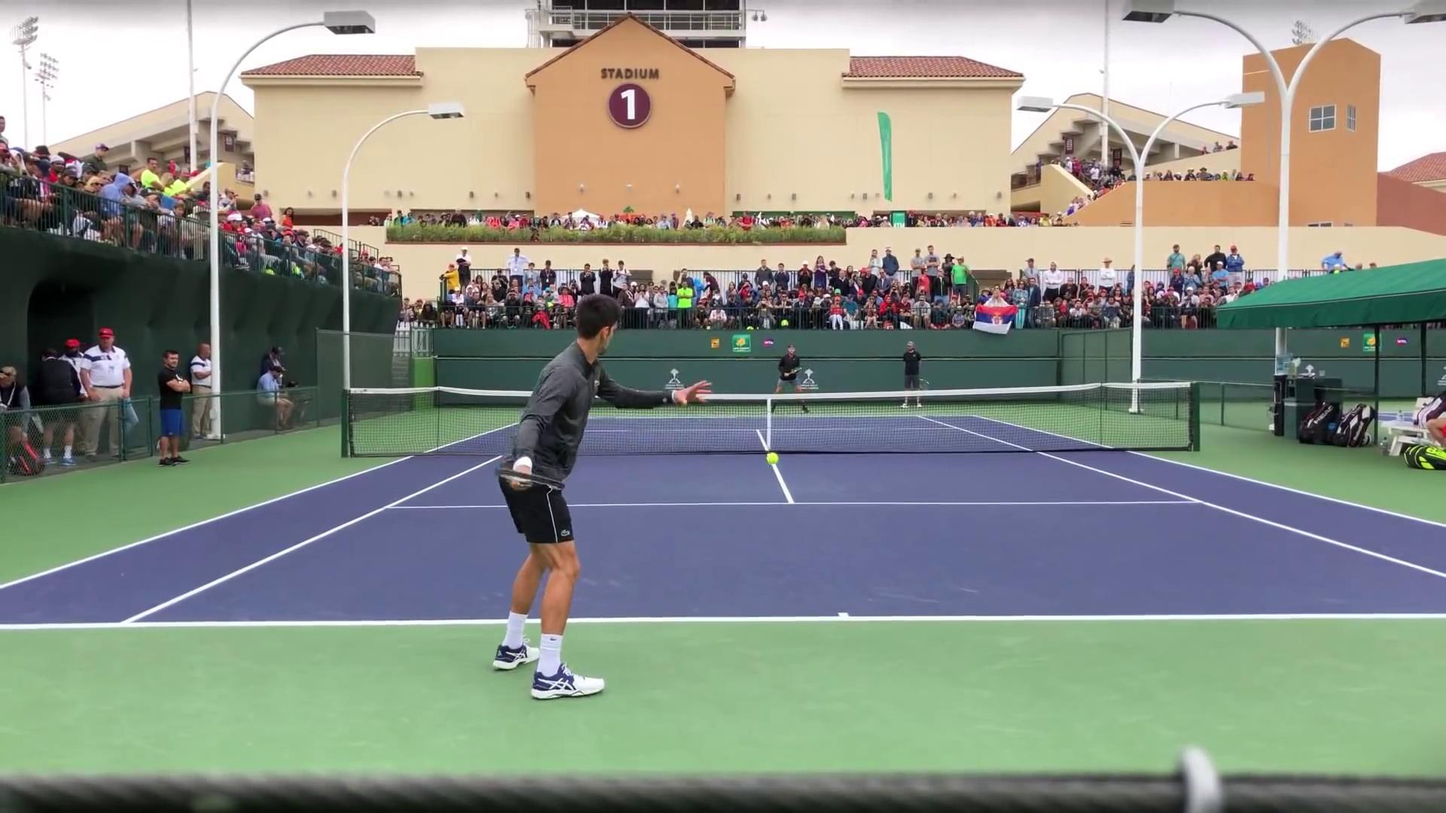ball: (763, 452, 781, 466), (842, 611, 845, 617)
